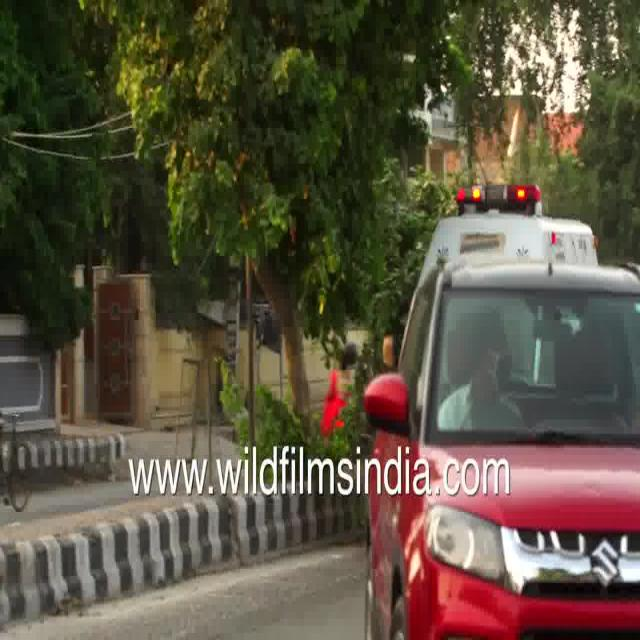ambulance: (415, 172, 596, 266)
